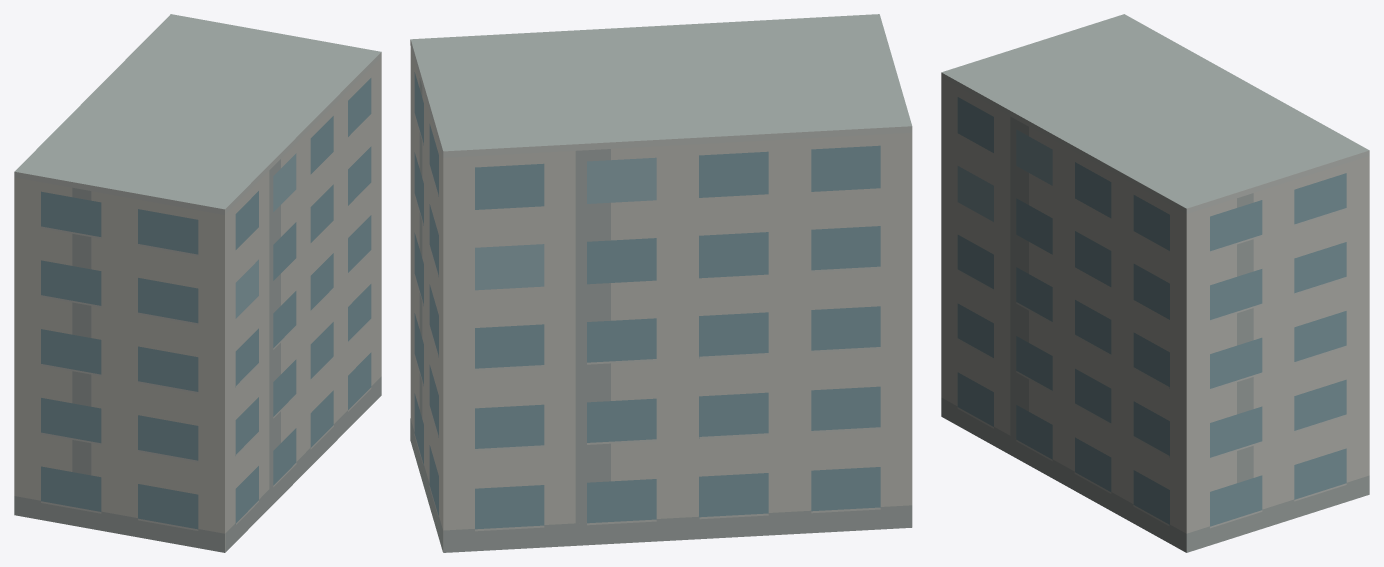
The model's file is survey-upis-32850631.glb.
3 views of the same model, side by side, from view 1: azimuth 30°, elevation 25°; view 2: azimuth 150°, elevation 25°; view 3: azimuth 270°, elevation 25° (orthographic). The views are drawn at different scales.
Parts seen in each view (by area): view 1: survey-upis-32850631.tmp; view 2: survey-upis-32850631.tmp; view 3: survey-upis-32850631.tmp.
Part boxes in pixels (box(x1,y1,x2,y2)): survey-upis-32850631.tmp: box(14, 14, 381, 552); survey-upis-32850631.tmp: box(410, 14, 912, 552); survey-upis-32850631.tmp: box(941, 14, 1369, 552).
Size of the model in its own units: 18.1 by 14.91 by 16.83.
